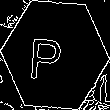P_N: (37, 28, 73, 82)
